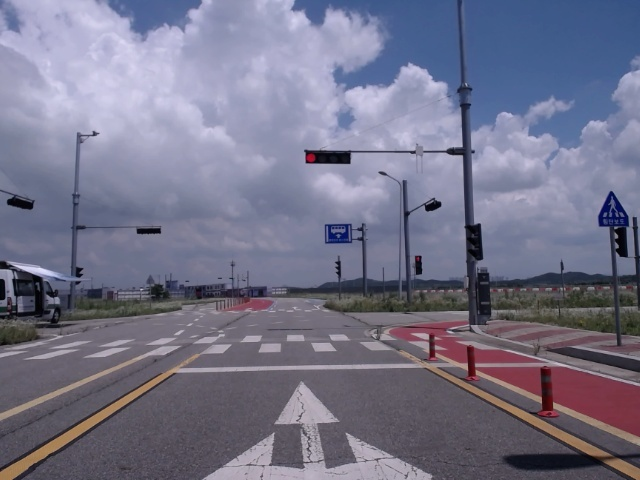red_4: (305, 152, 351, 164)
